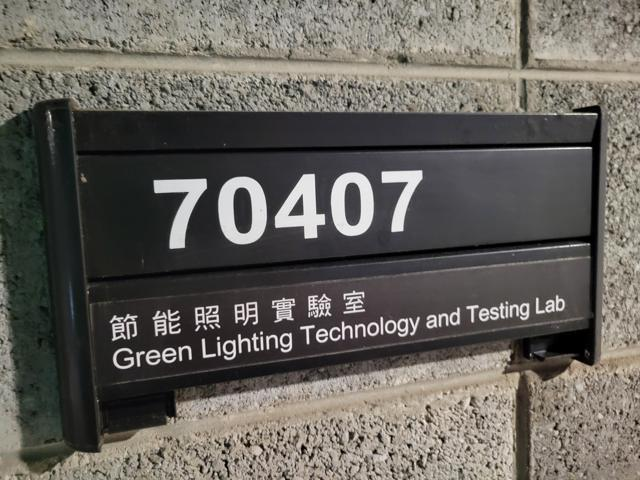doorplate: (26, 89, 615, 456)
